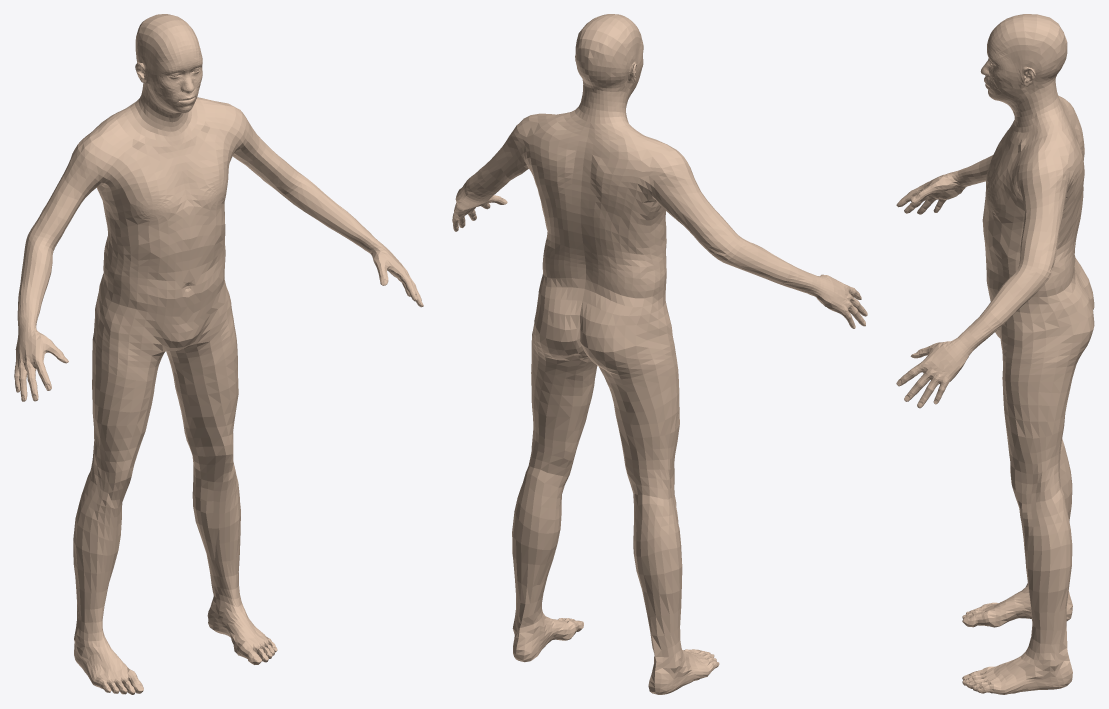
Rendered from male-adult-average-low.glb.
3 views of the same model, side by side, from view 1: azimuth 30°, elevation 25°; view 2: azimuth 150°, elevation 25°; view 3: azimuth 270°, elevation 25° (orthographic).
Visible parts, largest first — view 1: world; view 2: world; view 3: world.
Boxes of the visible parts, x1,y1,x2,y2 form: world: [14, 14, 423, 694]; world: [452, 14, 867, 694]; world: [896, 14, 1094, 694].
Size of the model in its own units: 1.28 by 1.95 by 0.548.
